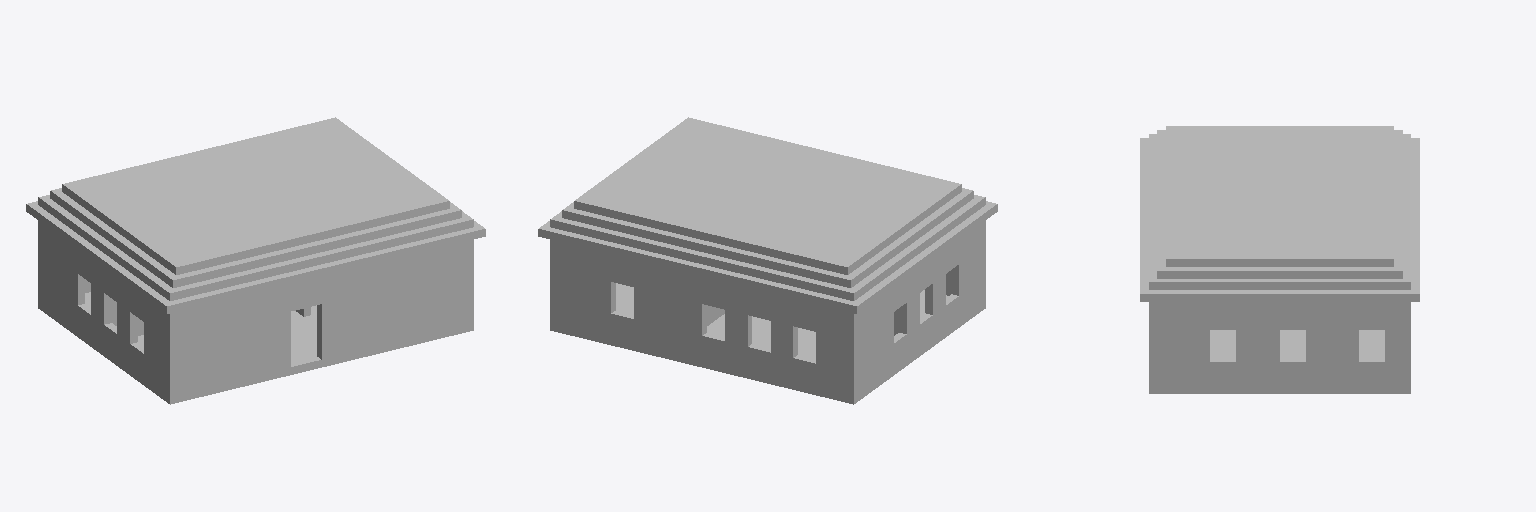
The model's file is house2.obj.
The picture shows the model from 3 angles: view 1: azimuth 30°, elevation 25°; view 2: azimuth 150°, elevation 25°; view 3: azimuth 270°, elevation 25°; orthographic projection.
Visible parts, largest first — view 1: object 1; view 2: object 1; view 3: object 1.
Boxes of the visible parts, <box> form: object 1: <box>26,117,485,404</box>; object 1: <box>538,117,997,404</box>; object 1: <box>1140,126,1419,393</box>.
Size of the model in its own units: 4.2 by 1.6 by 3.2.